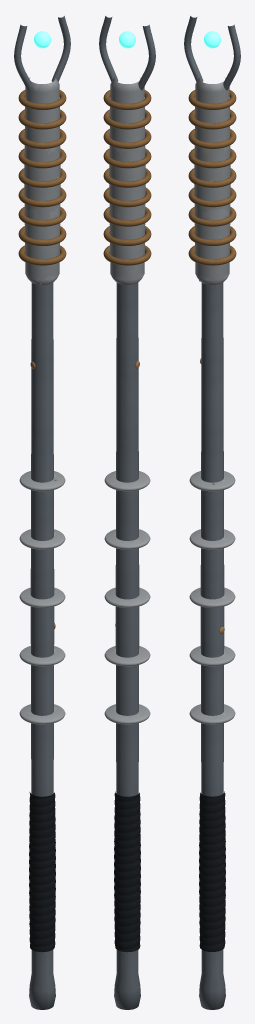
Rendered from channeling-rod.glb.
3 renders of one model, left to right at view 1: azimuth 30°, elevation 25°; view 2: azimuth 150°, elevation 25°; view 3: azimuth 330°, elevation 25°, orthographic.
Visible parts, largest first — view 1: alloy / machined anodized alloy, ceramic / ceramic composite panel, polymer / stippled polymer, bronze / cast bronze with patina, energy / emissive field channel; view 2: alloy / machined anodized alloy, ceramic / ceramic composite panel, polymer / stippled polymer, bronze / cast bronze with patina, energy / emissive field channel; view 3: alloy / machined anodized alloy, ceramic / ceramic composite panel, polymer / stippled polymer, bronze / cast bronze with patina, energy / emissive field channel.
Part boxes in pixels (box(x1,y1,x2,y2)): alloy / machined anodized alloy: box(14, 16, 70, 1009); ceramic / ceramic composite panel: box(19, 78, 65, 724); polymer / stippled polymer: box(29, 792, 55, 952); bronze / cast bronze with patina: box(18, 90, 66, 265); energy / emissive field channel: box(34, 31, 50, 48); alloy / machined anodized alloy: box(99, 16, 155, 1009); ceramic / ceramic composite panel: box(104, 78, 150, 724); polymer / stippled polymer: box(114, 791, 140, 952); bronze / cast bronze with patina: box(103, 90, 151, 265); energy / emissive field channel: box(119, 31, 135, 48); alloy / machined anodized alloy: box(184, 16, 240, 1009); ceramic / ceramic composite panel: box(189, 78, 235, 724); polymer / stippled polymer: box(199, 791, 225, 951); bronze / cast bronze with patina: box(188, 90, 236, 265); energy / emissive field channel: box(204, 31, 220, 48).
Bounding box in the file's own units: 0.0904 × 1.52 × 0.067.
7 materials, 4 textured.
